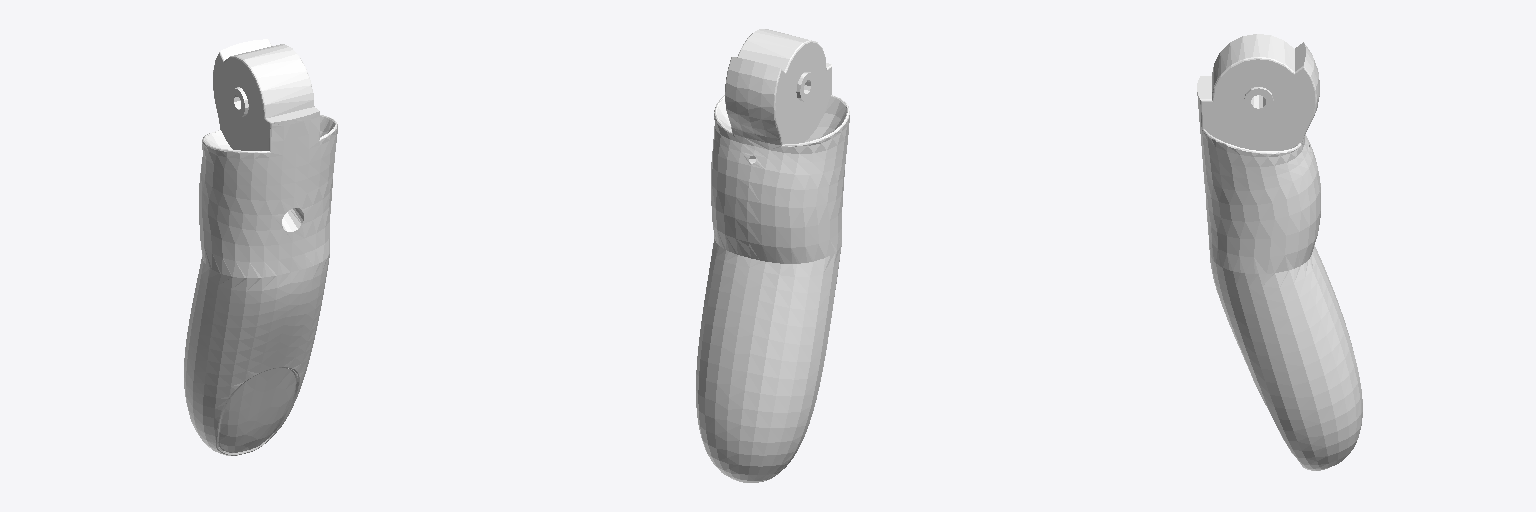
The model's file is armar-7_little_intermediate_distal_phalanx.obj.
The picture shows the model from 3 angles: view 1: azimuth 30°, elevation 25°; view 2: azimuth 150°, elevation 25°; view 3: azimuth 270°, elevation 25°; orthographic projection.
Bounding box in the file's own units: 0.0163 × 0.0543 × 0.0194.